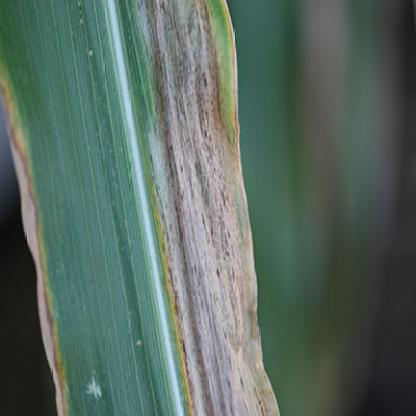corn leaf blight: (3, 2, 267, 414)
